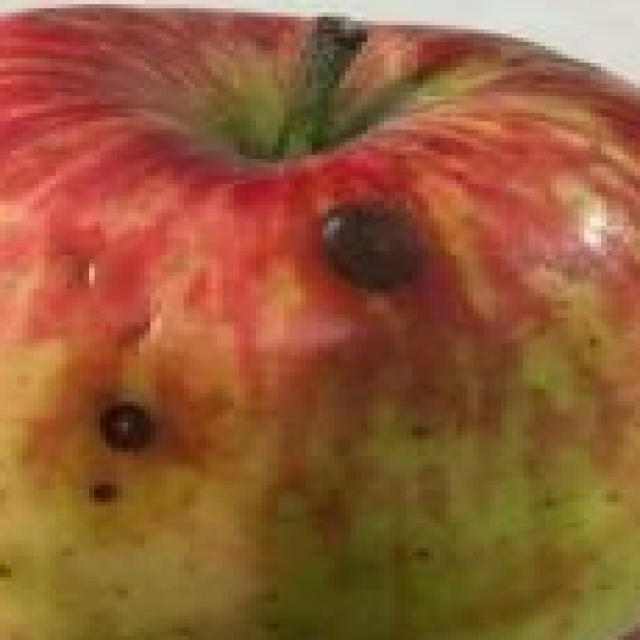Bad_Apple 0-1 day: (0, 8, 640, 640)
